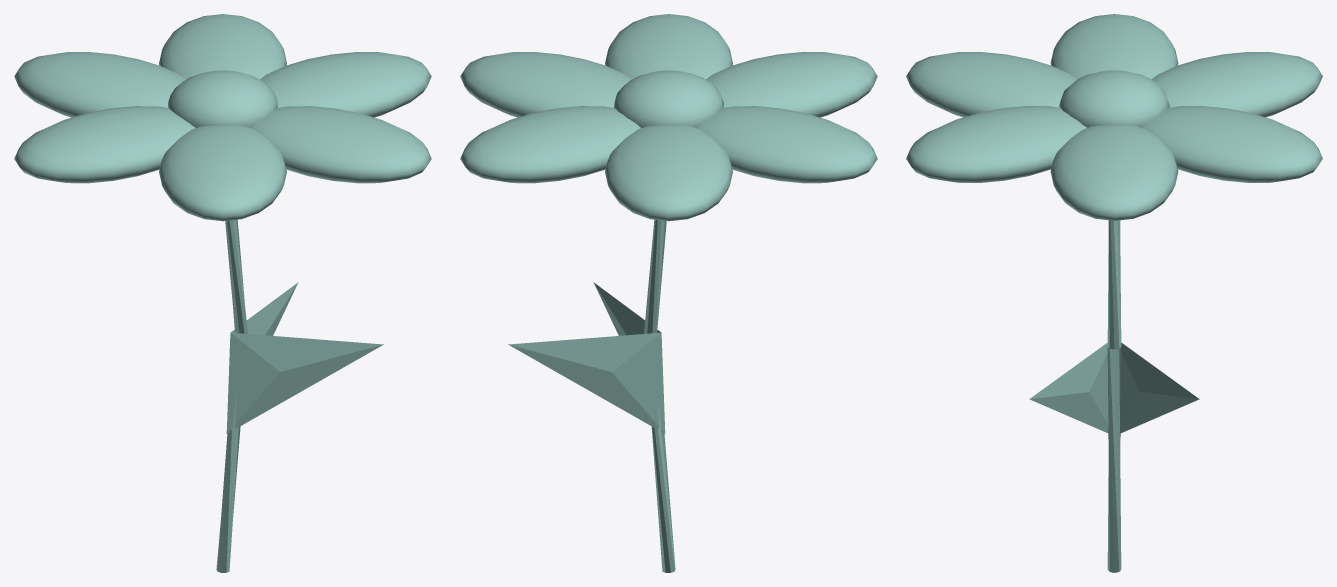
The picture shows the model from 3 angles, left to right: view 1: azimuth 30°, elevation 25°; view 2: azimuth 150°, elevation 25°; view 3: azimuth 270°, elevation 25°; orthographic projection.
Visible parts, largest first — view 1: Petal.004, Petal, Petal.005, Petal.001, Petal.003, Leaf, Petal.002, Flower center, Stem, Leaf.001; view 2: Petal.002, Petal.004, Petal.003, Petal.001, Petal.005, Leaf.001, Petal, Flower center, Stem, Leaf; view 3: Petal.002, Petal, Petal.001, Petal.003, Petal.005, Petal.004, Flower center, Stem, Leaf.001, Leaf.
Part boxes in pixels (x1,y1,x2,y2): Petal.004: [14, 106, 195, 183]; Petal: [251, 106, 431, 183]; Petal.005: [159, 125, 286, 221]; Petal.001: [260, 52, 431, 117]; Petal.003: [14, 52, 185, 117]; Leaf: [226, 332, 383, 433]; Petal.002: [159, 14, 286, 79]; Flower center: [168, 70, 277, 127]; Stem: [216, 219, 247, 572]; Leaf.001: [231, 282, 298, 335]; Petal.002: [460, 106, 640, 183]; Petal.004: [696, 106, 877, 183]; Petal.003: [605, 125, 732, 221]; Petal.001: [460, 52, 631, 117]; Petal.005: [706, 52, 877, 117]; Leaf.001: [508, 332, 665, 433]; Petal: [605, 14, 732, 79]; Flower center: [614, 70, 723, 127]; Stem: [644, 219, 675, 572]; Leaf: [593, 282, 660, 335]; Petal.002: [1142, 106, 1322, 182]; Petal: [906, 106, 1086, 182]; Petal.001: [1050, 125, 1178, 220]; Petal.003: [1151, 52, 1322, 117]; Petal.005: [906, 52, 1077, 117]; Petal.004: [1050, 14, 1178, 78]; Flower center: [1059, 70, 1169, 127]; Stem: [1107, 220, 1121, 572]; Leaf.001: [1120, 342, 1199, 433]; Leaf: [1029, 342, 1108, 432].
Bounding box in the file's own units: 110 × 127 × 97.78.
